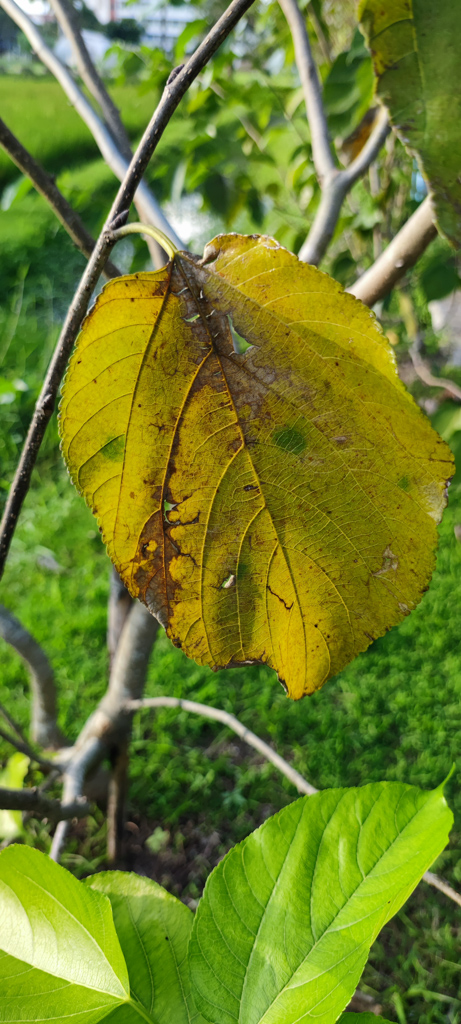Pepper yellow leaf: (49, 251, 443, 691)
Rust: (137, 282, 392, 633)
